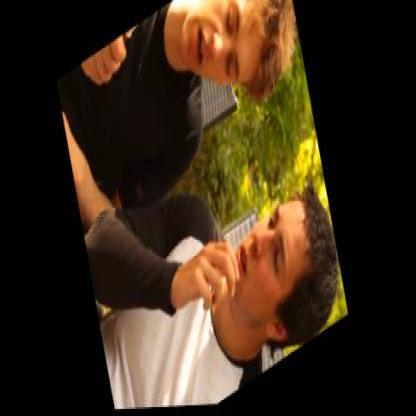knife: (95, 4, 176, 90)
